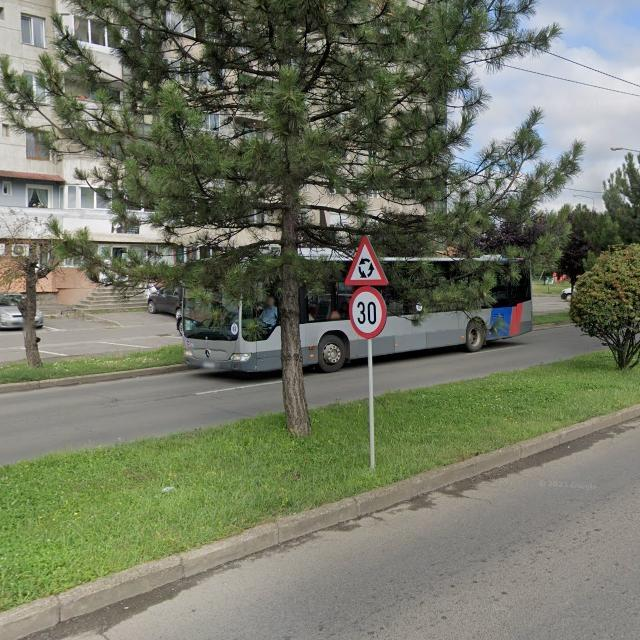forb_speed_over_30: (349, 287, 387, 338)
